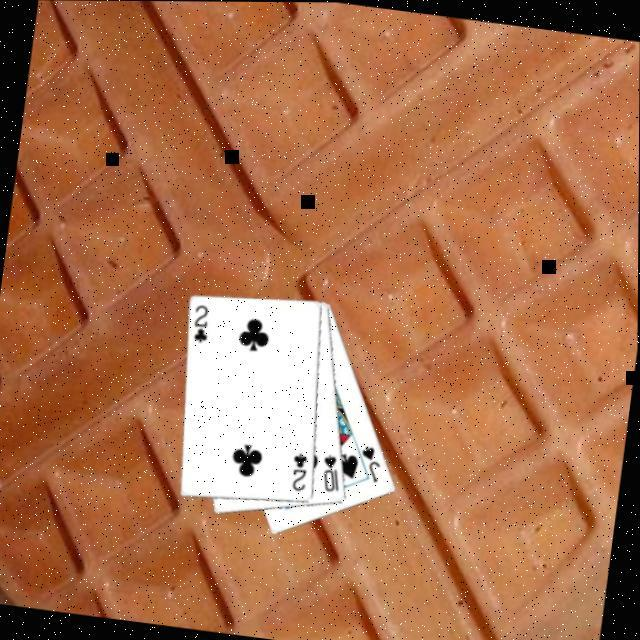10S: (315, 452, 344, 496)
2C: (284, 450, 312, 496), (185, 303, 212, 347)
JS: (353, 442, 384, 487)
